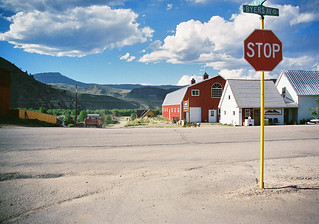StopSign: (242, 28, 282, 71)
